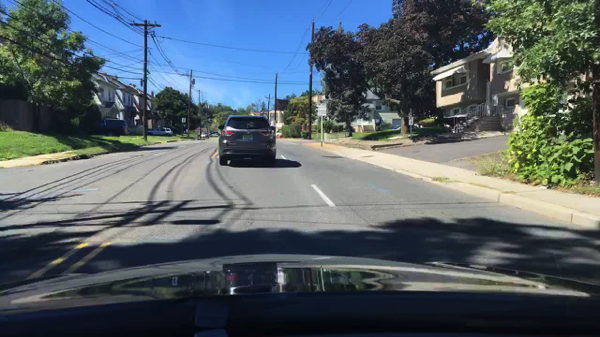car: (218, 116, 275, 167), (93, 119, 128, 137), (145, 128, 173, 137), (393, 123, 414, 132), (199, 133, 210, 139), (209, 131, 220, 136), (277, 130, 282, 135), (200, 131, 207, 134)
person: (455, 119, 463, 132), (176, 122, 181, 132), (415, 122, 421, 129), (182, 124, 186, 134)
traffic sign: (407, 117, 414, 126), (182, 117, 185, 123)
